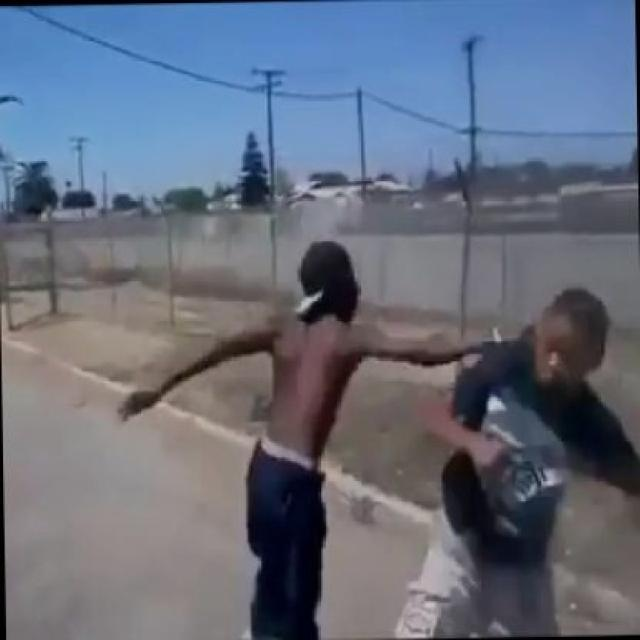fight: (127, 244, 640, 636)
